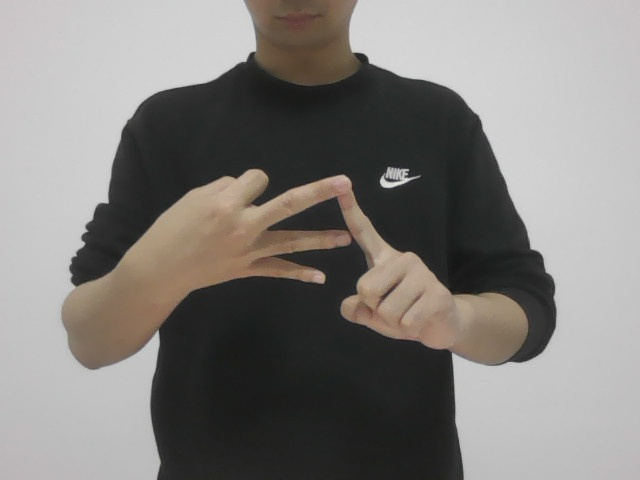name: (155, 166, 458, 357)
